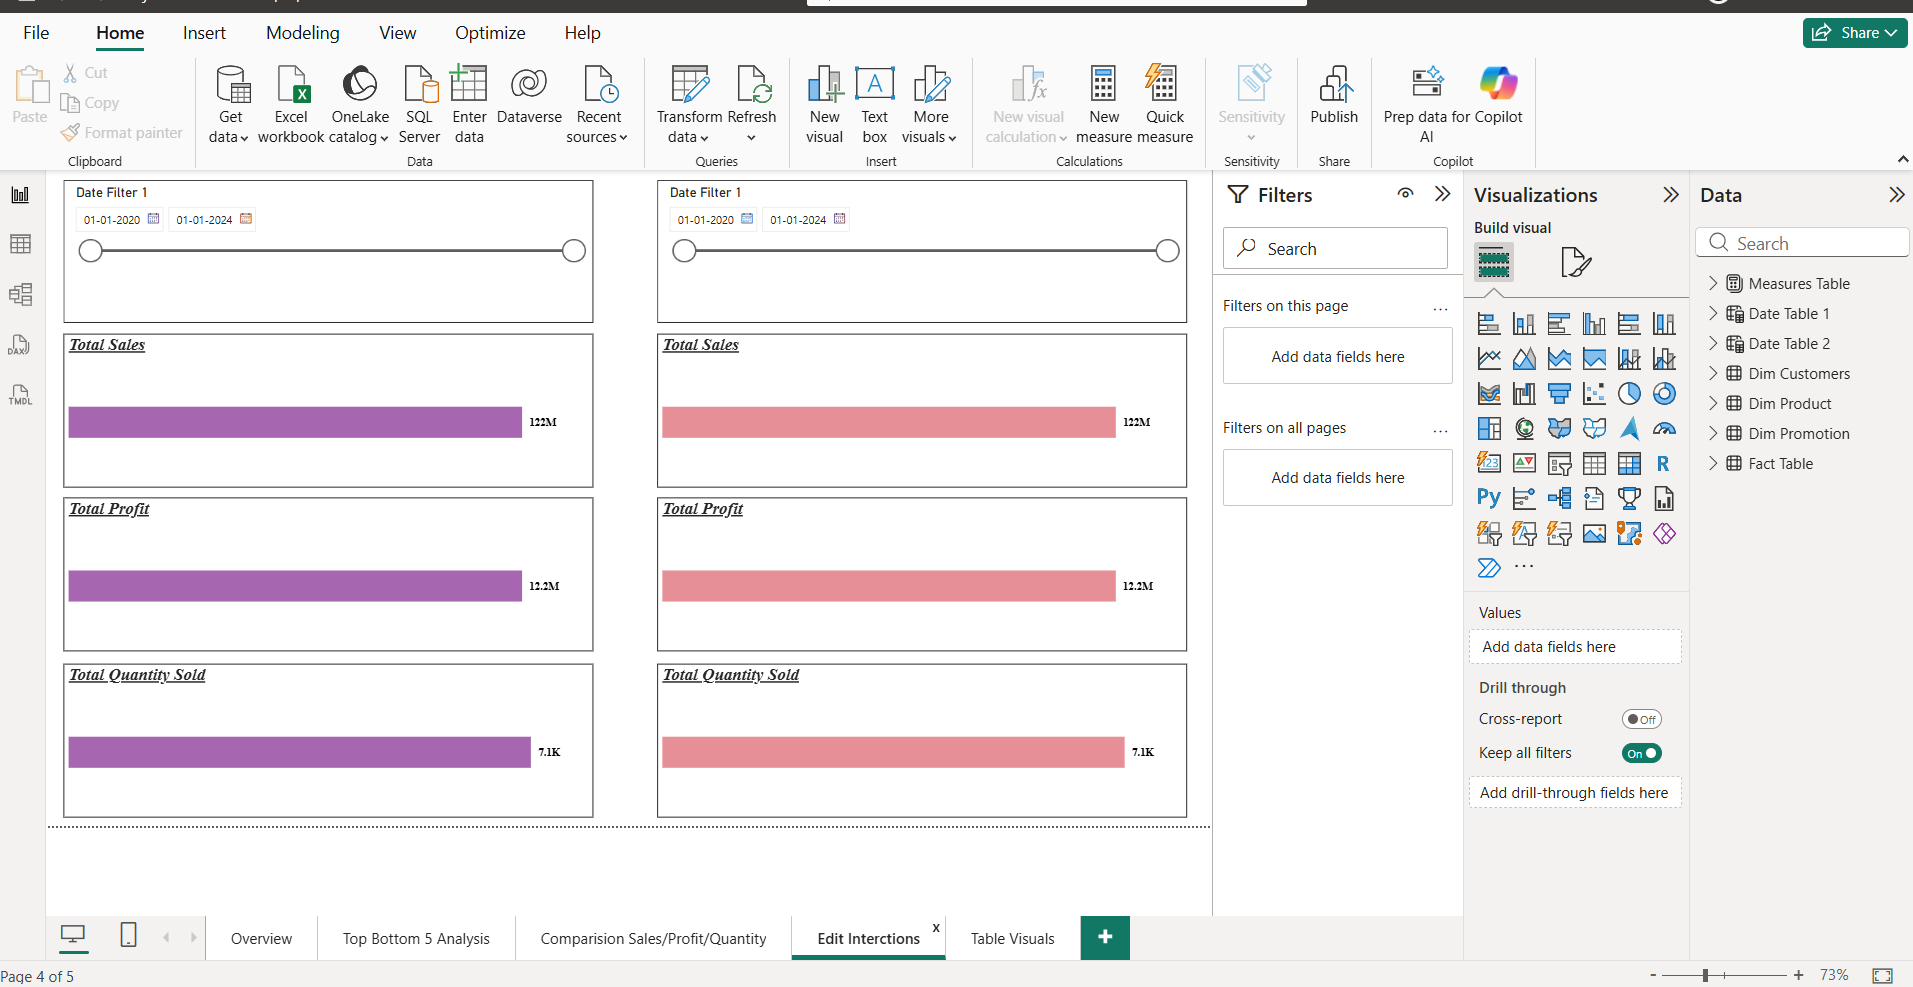

The page's visual inventory and layout, read from the dashboard file:
{"tool":"powerbi","page":{"name":"Edit Interctions","canvas":[1280,720],"ordinal":3},"visuals":[{"type":"slicer","fields":{"Values":["Fact Table.Date (dd/mm/yyyy)"]},"box":[19.2,11,581.8,156.4],"z":0},{"type":"slicer","fields":{"Values":["Fact Table.Date (dd/mm/yyyy)"]},"box":[671,11,581.8,156.4],"z":1000},{"type":"barChart","title":"Total Sales   ","fields":{"Y":["Sum(Fact Table.Net Sales   )"]},"box":[19.2,179.8,581.8,168.8],"z":2000},{"type":"barChart","title":"Total Profit","fields":{"Y":["Sum(Fact Table.Profit)"]},"box":[19.2,359.5,581.8,168.8],"z":3000},{"type":"barChart","title":"Total Quantity Sold ","fields":{"Y":["Sum(Fact Table.Units Sold)"]},"box":[19.2,542,581.8,168.8],"z":4000},{"type":"barChart","title":"Total Sales   ","fields":{"Y":["Sum(Fact Table.Net Sales   )"]},"box":[671,179.8,581.8,168.8],"z":5000},{"type":"barChart","title":"Total Profit","fields":{"Y":["Sum(Fact Table.Profit)"]},"box":[671,359.5,581.8,168.8],"z":6000},{"type":"barChart","title":"Total Quantity Sold ","fields":{"Y":["Sum(Fact Table.Units Sold)"]},"box":[671,542,581.8,168.8],"z":7000}]}

Visuals, with their boxes on the page's 1280x720 design canvas (x1, y1, x2, y2). These are canvas units, not pixel positions in the 1913x987 screenshot, which may show the page scaled, cropped or inside an application window:
slicer - Fact Table.Date (dd/mm/yyyy): select_region(19, 11, 601, 167)
slicer - Fact Table.Date (dd/mm/yyyy): select_region(671, 11, 1253, 167)
"Total Sales   " barChart: select_region(19, 180, 601, 349)
"Total Profit" barChart: select_region(19, 360, 601, 528)
"Total Quantity Sold " barChart: select_region(19, 542, 601, 711)
"Total Sales   " barChart: select_region(671, 180, 1253, 349)
"Total Profit" barChart: select_region(671, 360, 1253, 528)
"Total Quantity Sold " barChart: select_region(671, 542, 1253, 711)
